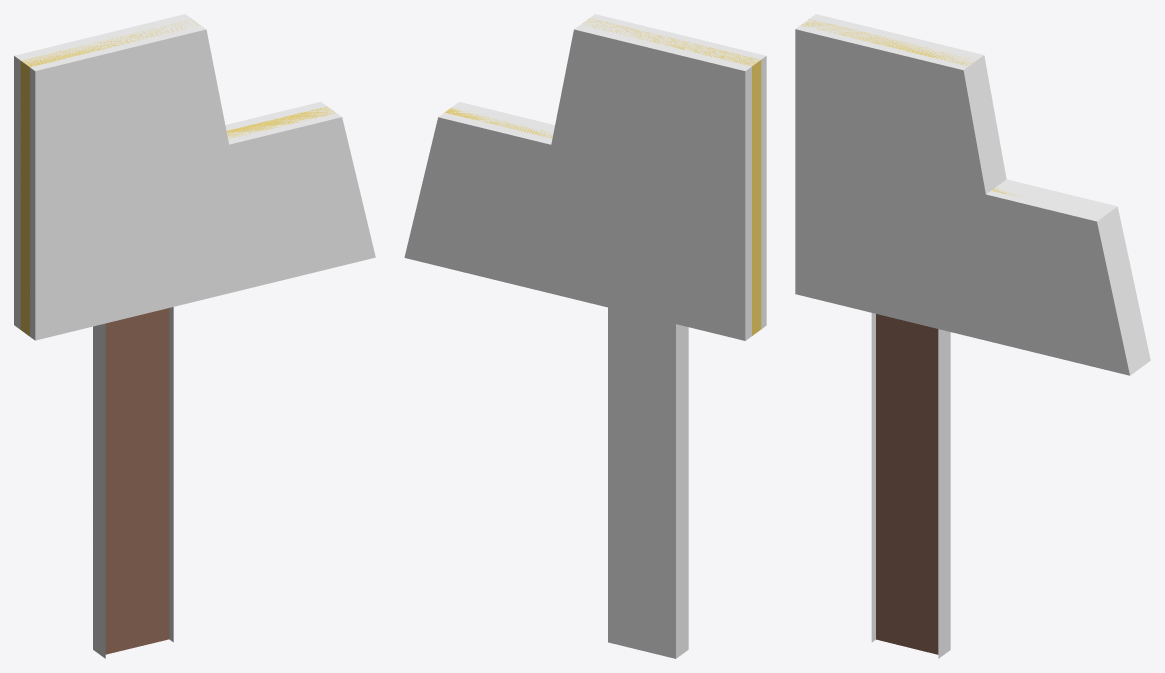
File: s_car_parts_sign_001.dae
The picture shows the model from 3 angles, left to right: view 1: azimuth 30°, elevation 25°; view 2: azimuth 150°, elevation 25°; view 3: azimuth 330°, elevation 25°; orthographic projection.
Parts seen in each view (by area): view 1: Colmesh_s_car_parts_sign_001-1, s_car_parts_sign_001_L45; view 2: Colmesh_s_car_parts_sign_001-1, s_car_parts_sign_001_L45; view 3: Colmesh_s_car_parts_sign_001-1, s_car_parts_sign_001_L45.
Part boxes in pixels (<box>): Colmesh_s_car_parts_sign_001-1: <box>14,14,375,658</box>; s_car_parts_sign_001_L45: <box>20,19,335,654</box>; Colmesh_s_car_parts_sign_001-1: <box>404,14,766,658</box>; s_car_parts_sign_001_L45: <box>445,18,761,335</box>; Colmesh_s_car_parts_sign_001-1: <box>795,14,1150,658</box>; s_car_parts_sign_001_L45: <box>801,19,1025,654</box>.
Bounding box in the file's own units: 4.66 × 0.5 × 7.96.
